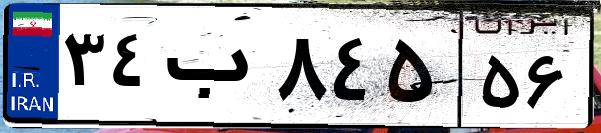3: (57, 26, 110, 100)
4: (330, 28, 385, 110), (110, 28, 158, 98)
5: (385, 28, 445, 110), (475, 38, 525, 113)
6: (525, 38, 570, 115)
8: (270, 28, 330, 110)
ب: (158, 20, 270, 120)
